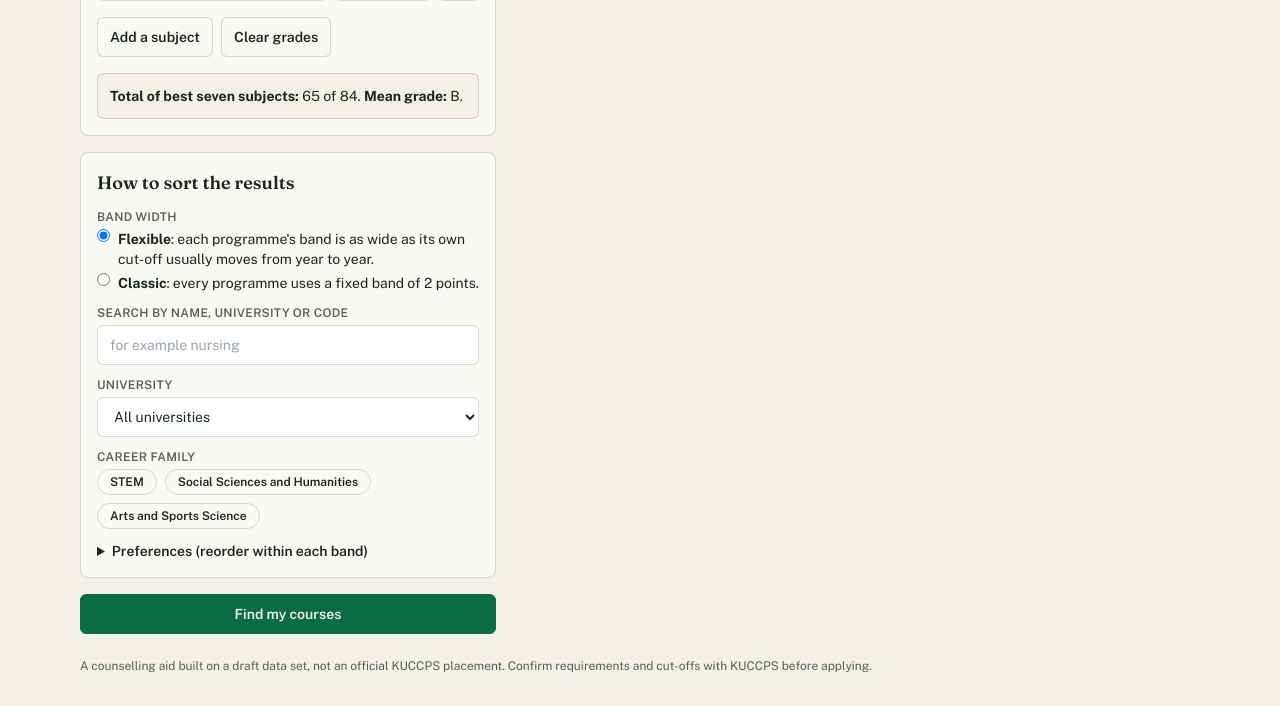
Scenario: finding courses › shows an empty band as empty
(page scrolled)
Click the button "Find my courses": (288, 614) [80, 594, 496, 634]
(page scrolled)
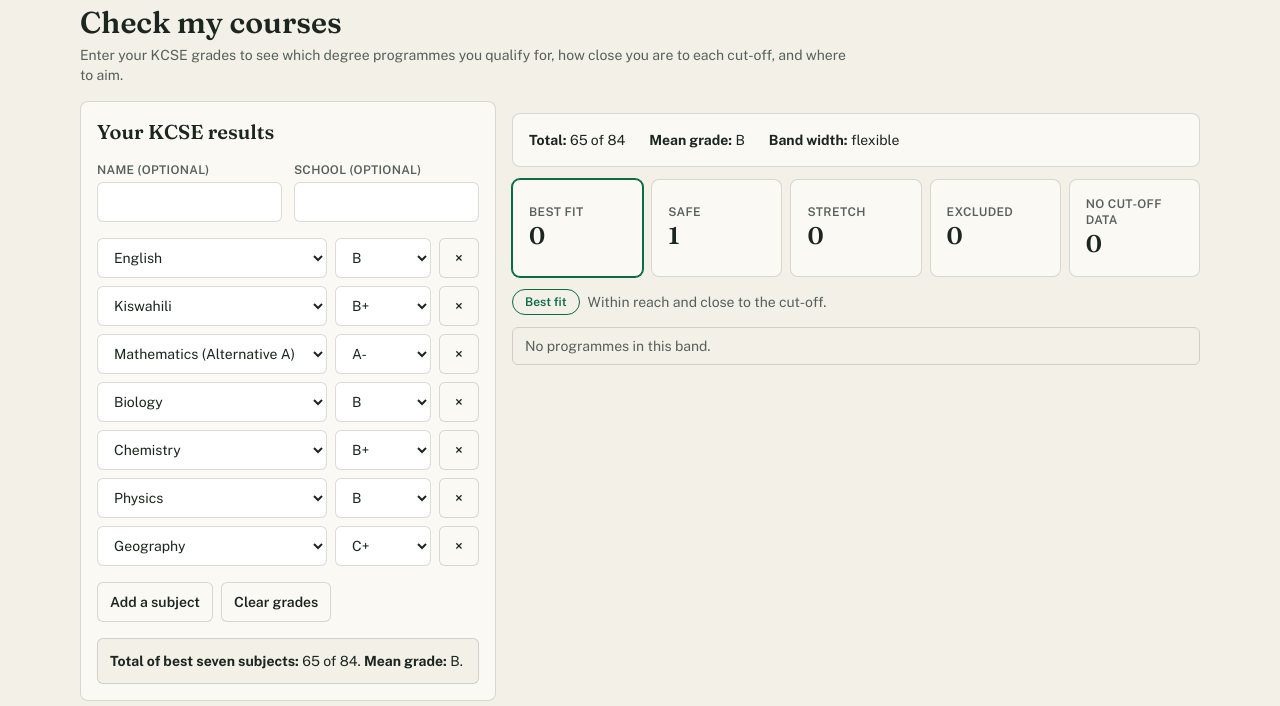
Expected: the text "No programmes in this band." is shown, [512, 327, 1200, 365]
